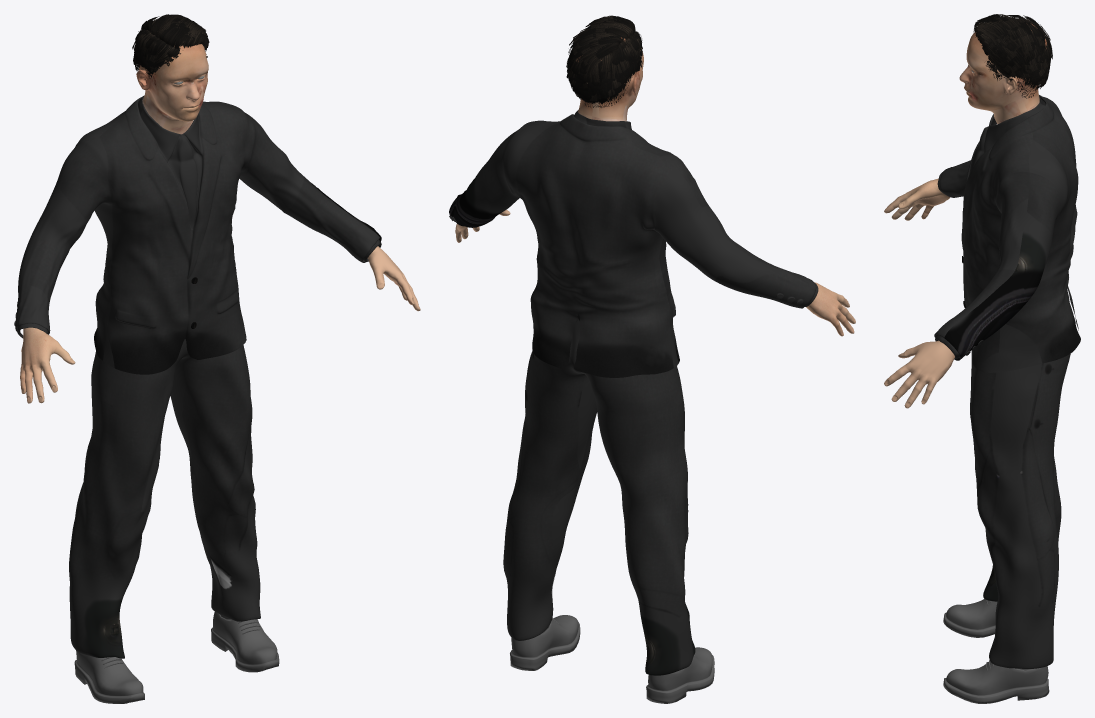
Rendered from corporate_businessman.glb.
3 renders of one model, left to right at view 1: azimuth 30°, elevation 25°; view 2: azimuth 150°, elevation 25°; view 3: azimuth 270°, elevation 25°, orthographic.
Parts seen in each view (by area): view 1: male_elegantsuit01Mesh, shoes03Mesh, ericMesh001, ericMesh, Ch31_Hair; view 2: male_elegantsuit01Mesh, Ch31_Hair, shoes03Mesh, ericMesh, ericMesh001; view 3: male_elegantsuit01Mesh, shoes03Mesh, Ch31_Hair, ericMesh, ericMesh001.
Part boxes in pixels (box(x1,y1,x2,y2)): male_elegantsuit01Mesh: box(14, 95, 381, 658); shoes03Mesh: box(74, 611, 279, 703); ericMesh001: box(136, 44, 208, 134); ericMesh: box(20, 246, 420, 403); Ch31_Hair: box(132, 14, 209, 78); male_elegantsuit01Mesh: box(449, 110, 818, 675); Ch31_Hair: box(566, 15, 642, 107); shoes03Mesh: box(510, 615, 714, 703); ericMesh: box(455, 210, 855, 336); ericMesh001: box(576, 37, 643, 121); male_elegantsuit01Mesh: box(934, 95, 1080, 668); shoes03Mesh: box(943, 598, 1049, 703); Ch31_Hair: box(973, 14, 1052, 98); ericMesh: box(884, 178, 954, 408); ericMesh001: box(959, 23, 1046, 124).
Bounding box in the file's own units: 106 × 169 × 46.64.
Materials: 10 (9 with a texture image).
